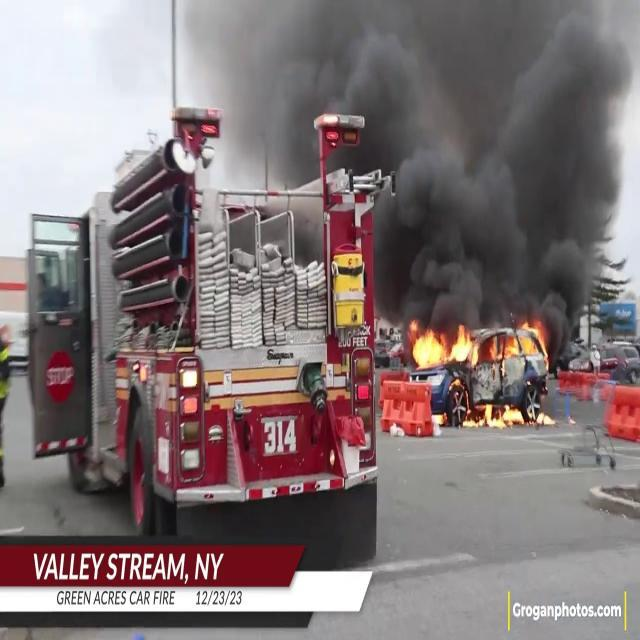Fire: (408, 317, 477, 370), (468, 400, 526, 430), (513, 317, 548, 359)
Smoke: (368, 0, 640, 318), (202, 0, 544, 164)
